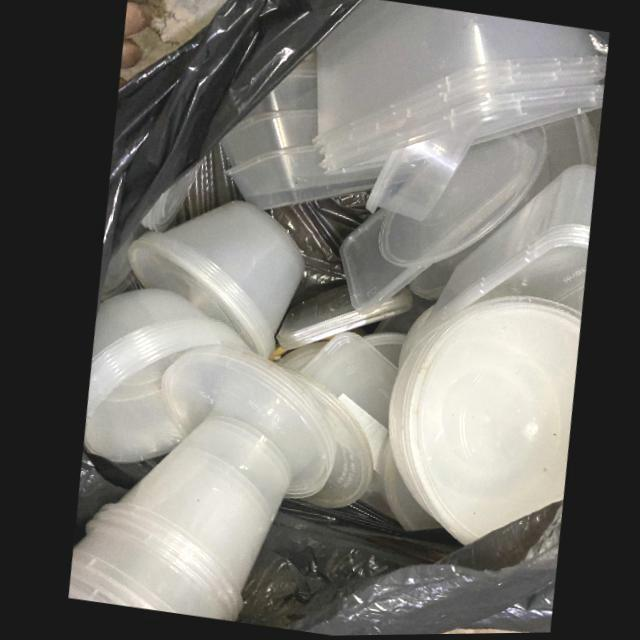plastic_container: (310, 0, 606, 174), (383, 298, 578, 548), (61, 416, 286, 622), (78, 289, 246, 464), (422, 166, 594, 335), (124, 201, 301, 360), (156, 346, 330, 501), (363, 134, 472, 223)
